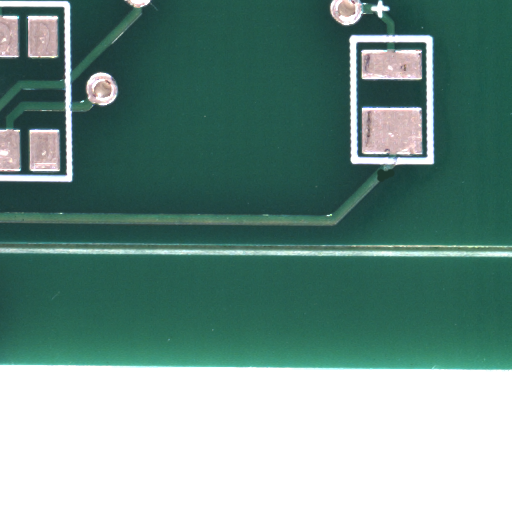Mouse_bite: (385, 175, 403, 188)
